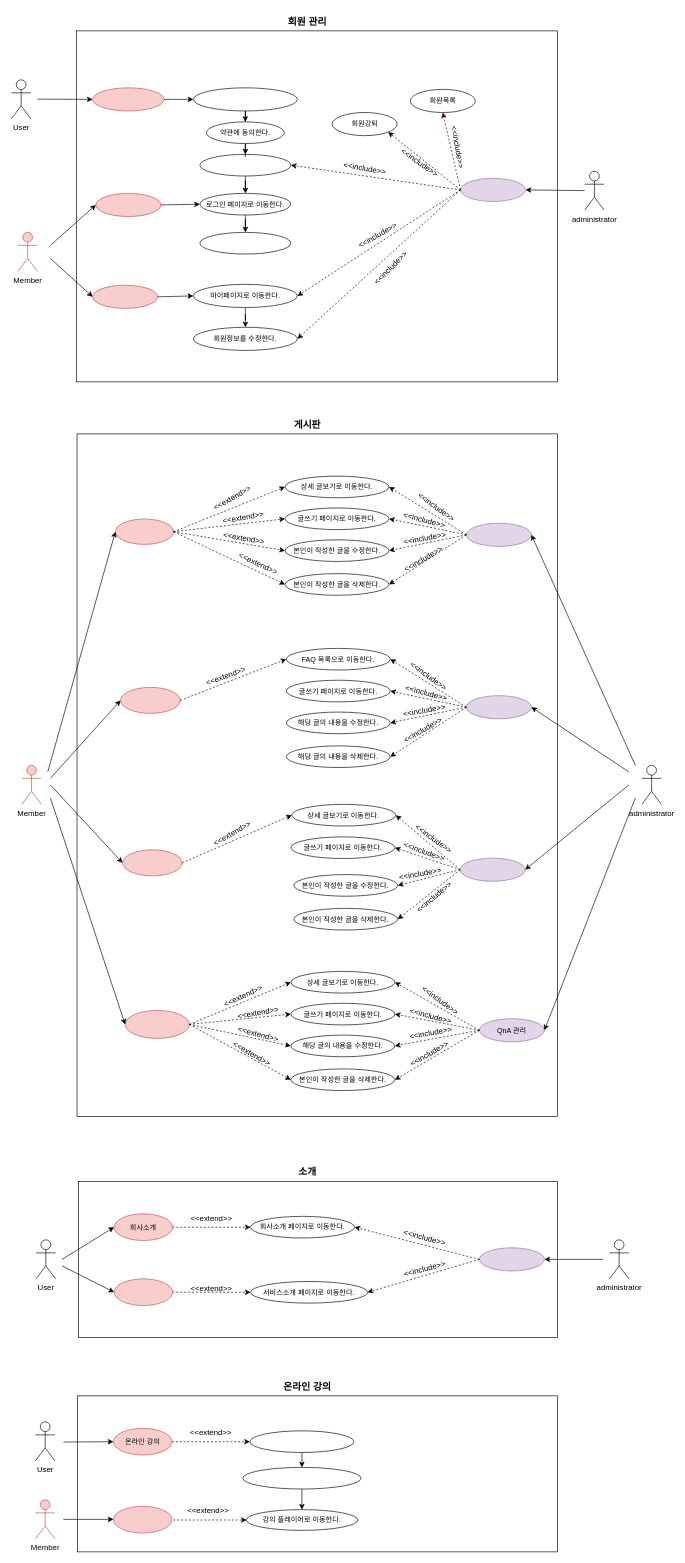
Image size: 685x1563. Some labels were removed from this diagram. The centre of each missing label's shape, as x and y in pixels:
FAQ: (150,700)
FAQ 관리: (498,707)
QnA: (156,1024)
강의 목록 페이지로 이동한다.: (301,1441)
강의 상세 보기 페이지로 이동한다.: (301,1478)
공지사항: (152,862)
공지사항 관리: (492,869)
동영상 플레이어: (142,1519)
로그인: (128,205)
로그인 정보를 입력한다.: (245,243)
마이페이지: (125,296)
서비스 소개: (143,1292)
소개 메뉴 관리: (511,1259)
커뮤니티 관리: (498,534)
학부모 커뮤니티: (144,531)
회원가입: (128,99)
회원가입 페이지로 이동한다.: (245,99)
회원관리: (493,190)
회원정보를 입력한다.: (245,165)
